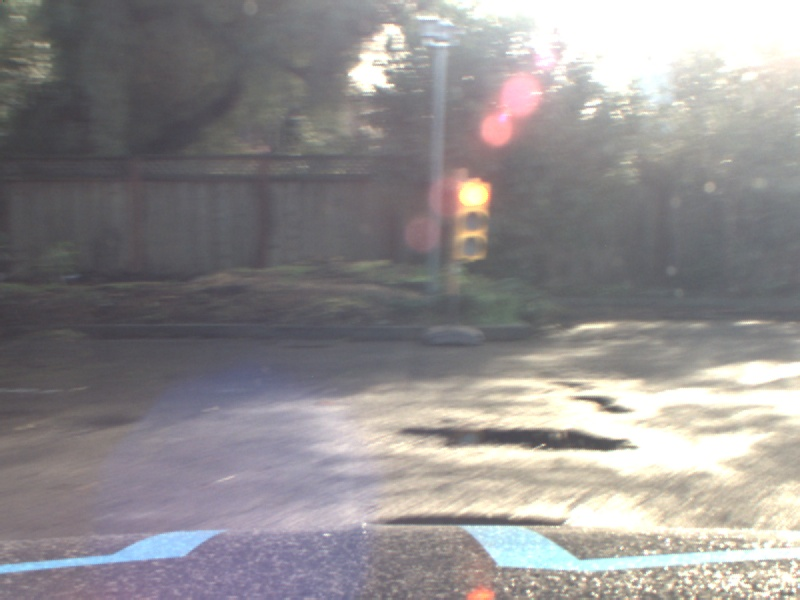Red: (456, 181, 491, 259)
